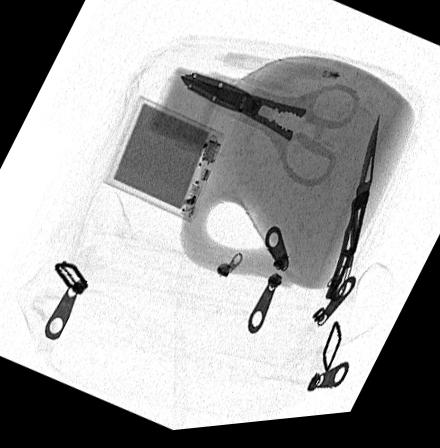Knife: (319, 117, 379, 308)
Powerbank: (100, 97, 227, 231)
Scissors: (178, 75, 355, 195)
